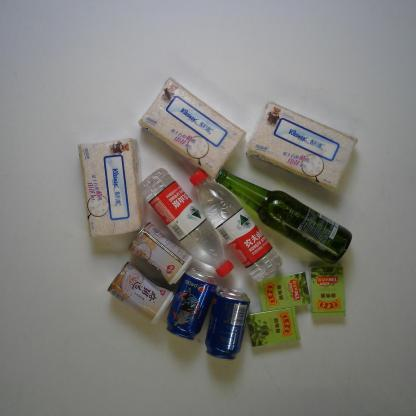Alcohol: (215, 167, 355, 264)
Candy: (255, 272, 311, 316), (248, 307, 300, 350), (309, 260, 346, 319)
Canned Food: (128, 222, 194, 286), (105, 263, 174, 324)
Drink: (139, 167, 233, 276), (189, 170, 279, 280), (166, 271, 218, 340), (205, 288, 251, 362)
Tissue: (138, 78, 245, 177), (245, 101, 358, 194), (77, 140, 150, 239)
